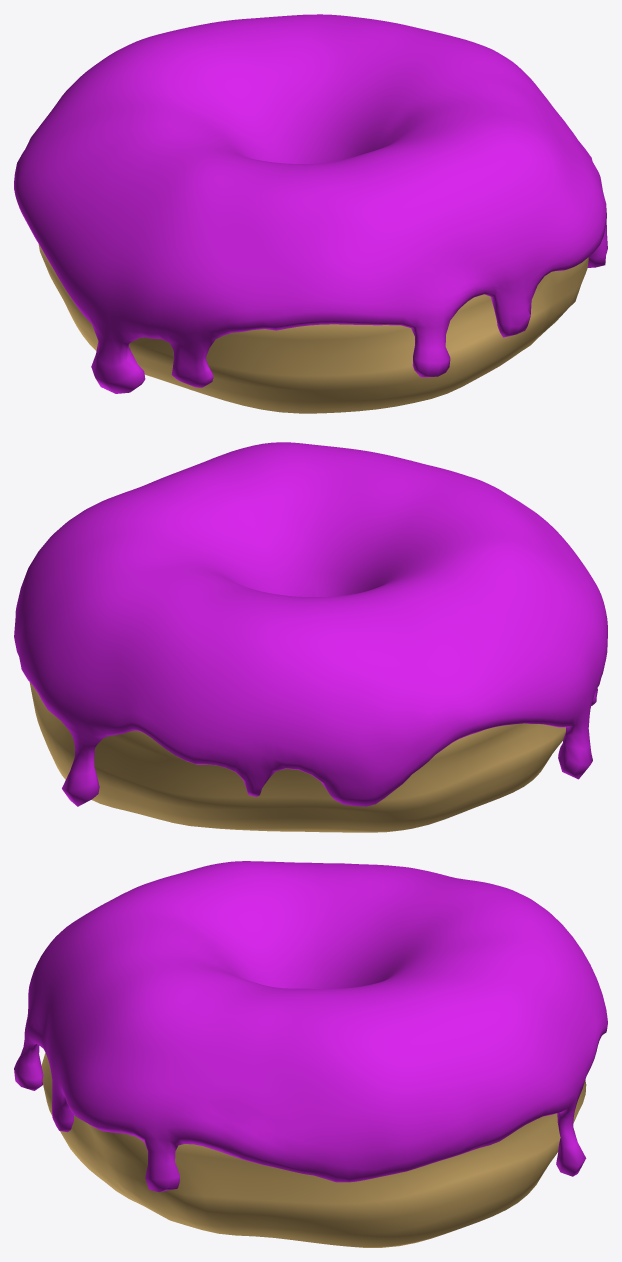
Rendered from donut.glb.
The picture shows the model from 3 angles, top to bottom: view 1: azimuth 30°, elevation 25°; view 2: azimuth 150°, elevation 25°; view 3: azimuth 270°, elevation 25°; orthographic projection.
Parts seen in each view (by area): view 1: Icing, Donut; view 2: Icing, Donut; view 3: Icing, Donut.
Boxes of the visible parts, box(x1,y1,x2,y2) form: Icing: box(14, 14, 607, 393); Donut: box(38, 244, 588, 413); Icing: box(14, 442, 607, 806); Donut: box(29, 682, 565, 832); Icing: box(14, 861, 607, 1192); Donut: box(41, 1052, 586, 1247).
Size of what is drawn, in the model's own units: 0.1597 by 0.073 by 0.1634.
